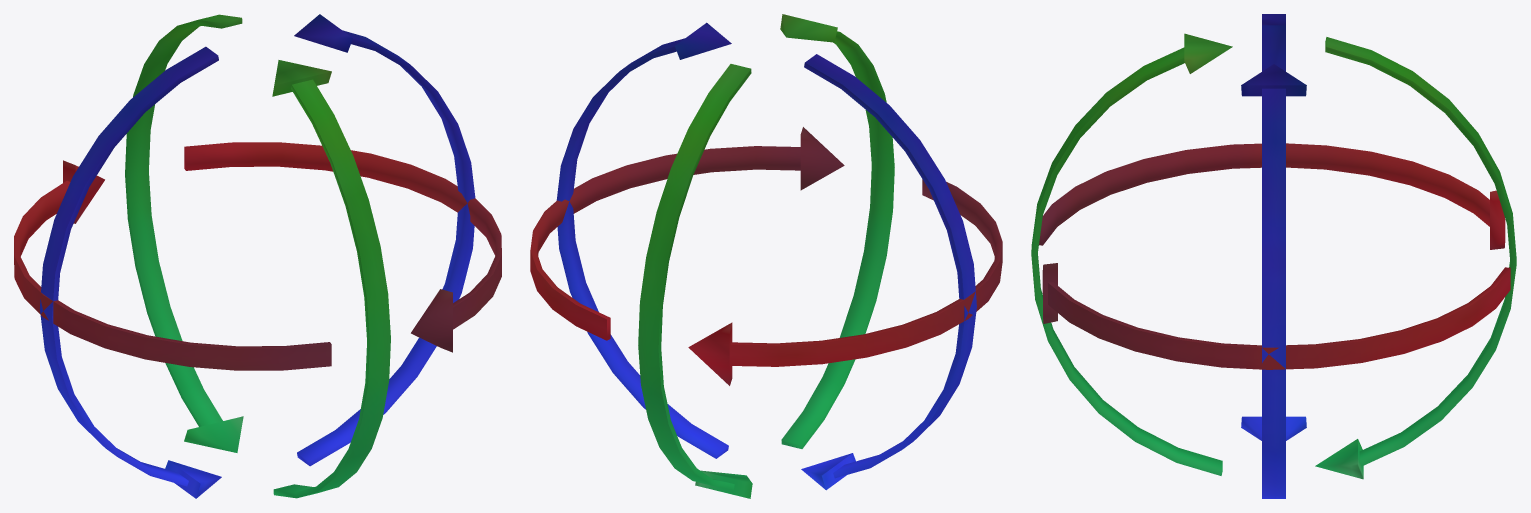
The picture shows the model from 3 angles, left to right: view 1: azimuth 30°, elevation 25°; view 2: azimuth 150°, elevation 25°; view 3: azimuth 270°, elevation 25°; orthographic projection. The views are drawn at different scales.
Parts seen in each view (by area): view 1: GizmoRotateXYZ; view 2: GizmoRotateXYZ; view 3: GizmoRotateXYZ.
Boxes of the visible parts, x1,y1,x2,y2 form: GizmoRotateXYZ: [14, 14, 501, 498]; GizmoRotateXYZ: [530, 14, 1002, 498]; GizmoRotateXYZ: [1031, 14, 1516, 498].
Bounding box in the file's own units: 2 × 1.95 × 2.
1 material, 1 textured.
